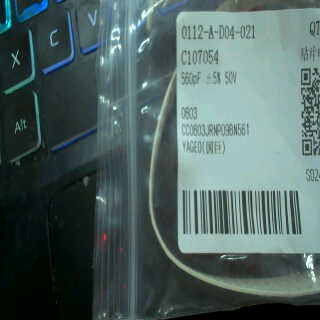560pF: (179, 69, 204, 87)
